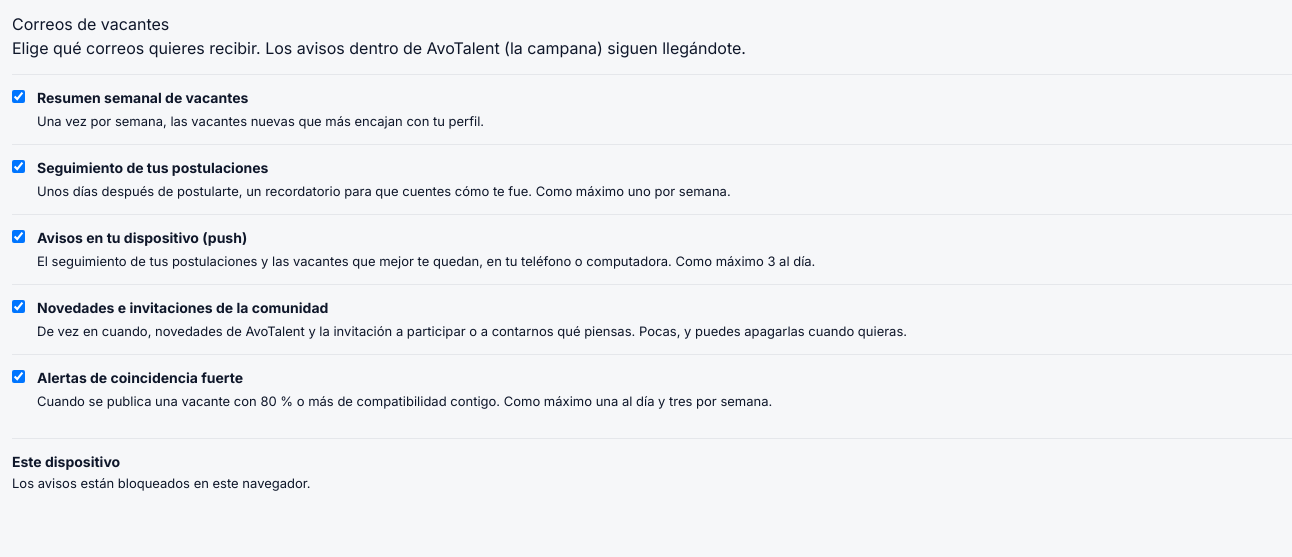
Test: los correos que quiere recibir › al apagar uno lo guarda
Click the checkbox labelled "Alertas de coincidencia fuerte" at (18, 376), box [12,370,25,383]
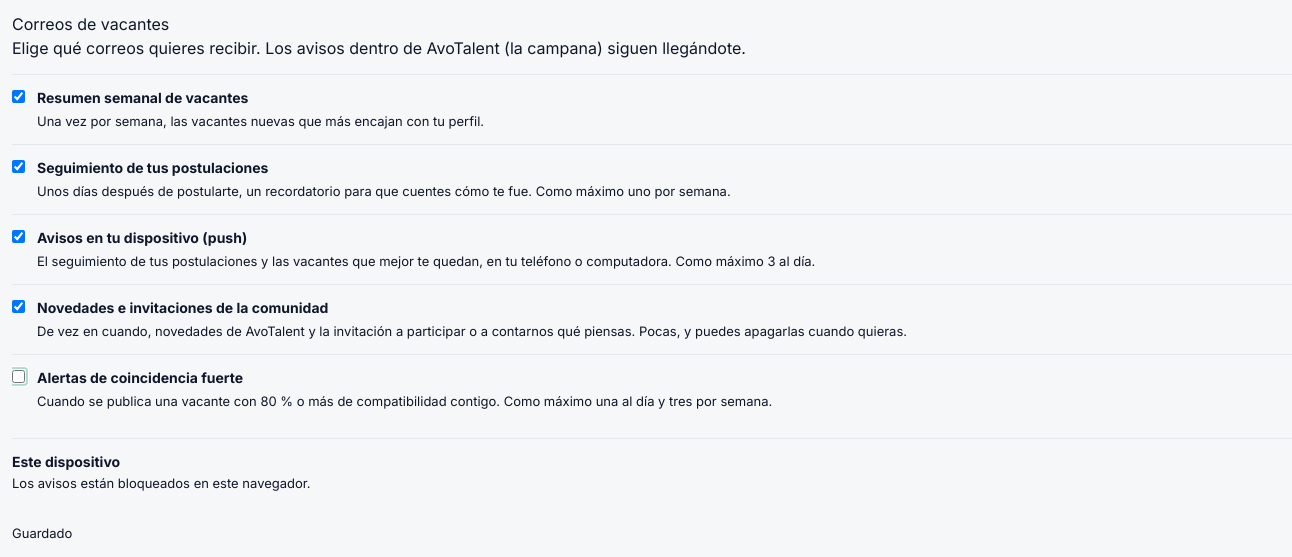
expect the checkbox labelled "Alertas de coincidencia fuerte" is not checked: met, box [12,370,25,383]
expect the text "Guardado" is shown: met, box [12,524,72,540]
